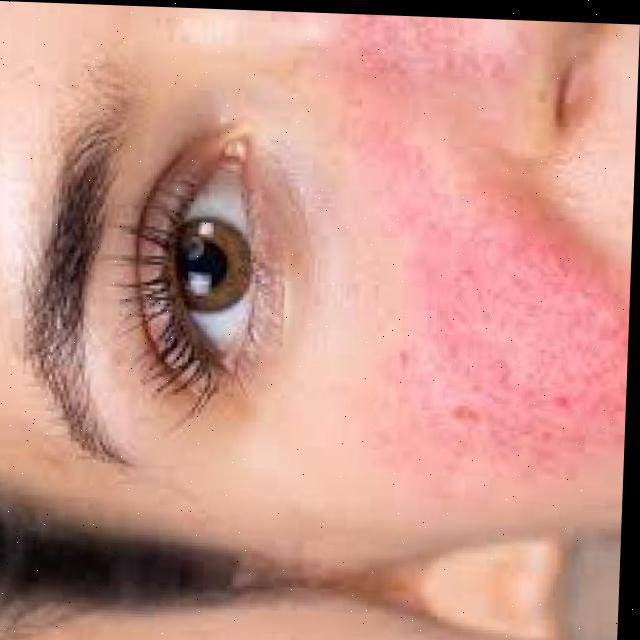Rosacea: (313, 13, 640, 490)
